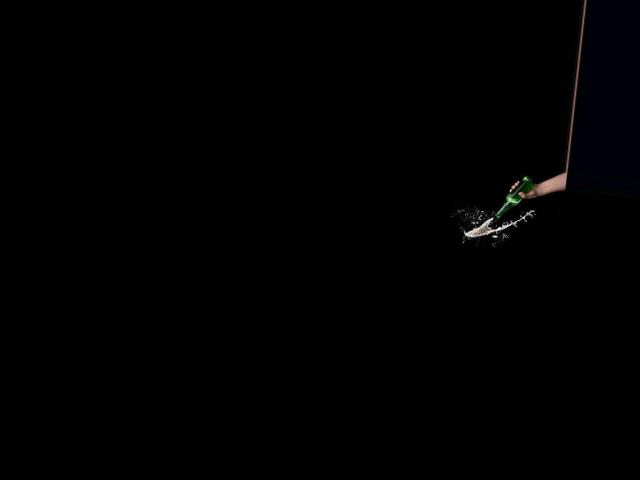beer: (494, 172, 535, 220)
